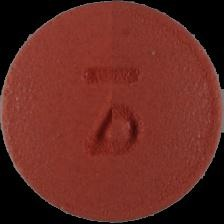50268-695: (0, 0, 224, 224)
